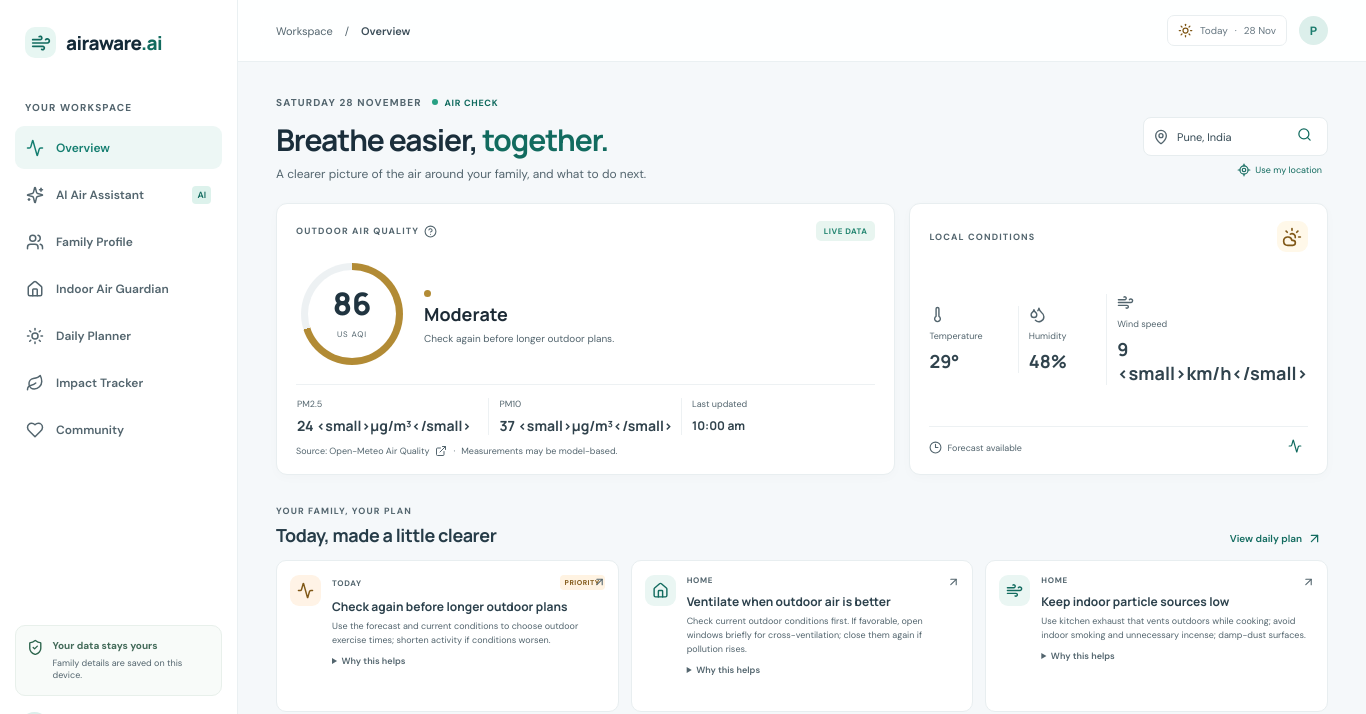
AirAware application › submits an assistant question and displays the structured response
The image size is (1366, 714).
Click the button "AI Air Assistant AI" at (118, 194), box [15, 173, 222, 216]
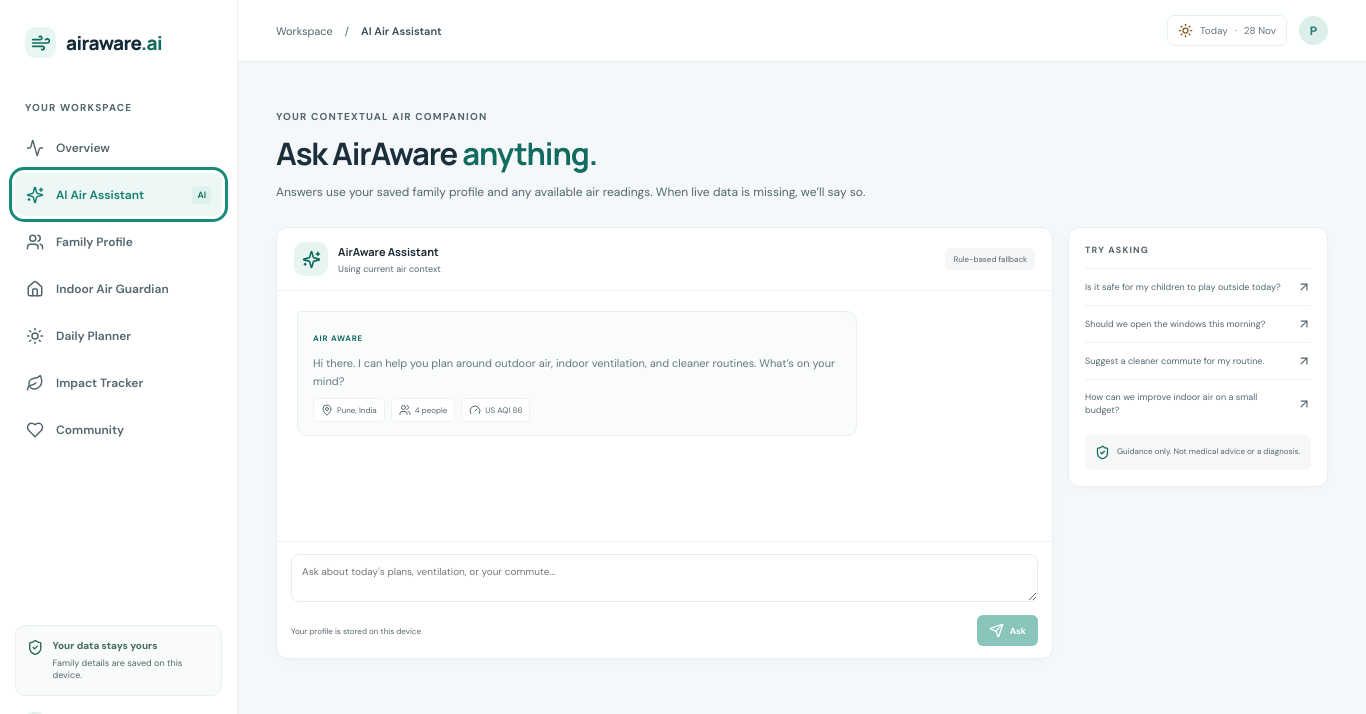
Type "Should my child play outside?" into the text box named "Ask AirAware" at (664, 578), box [291, 554, 1038, 602]
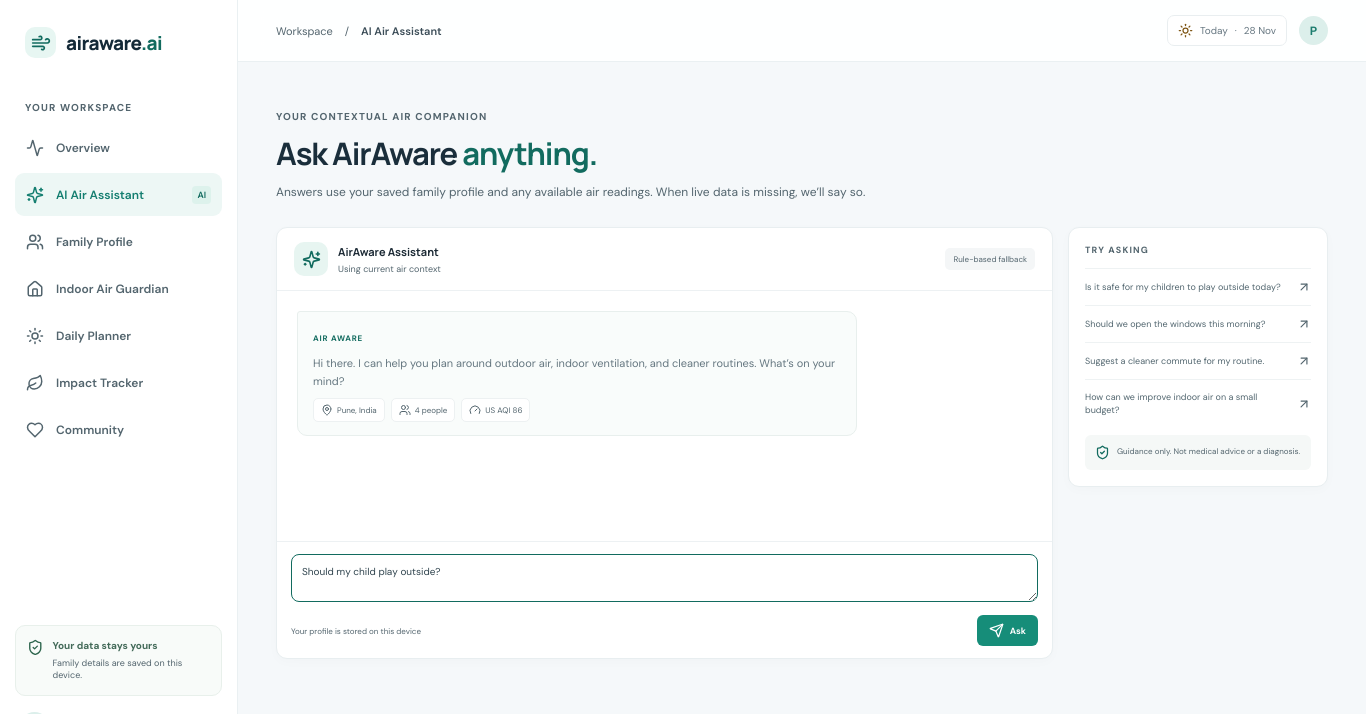
Click the button "Ask" at (1007, 631), box [977, 615, 1038, 646]
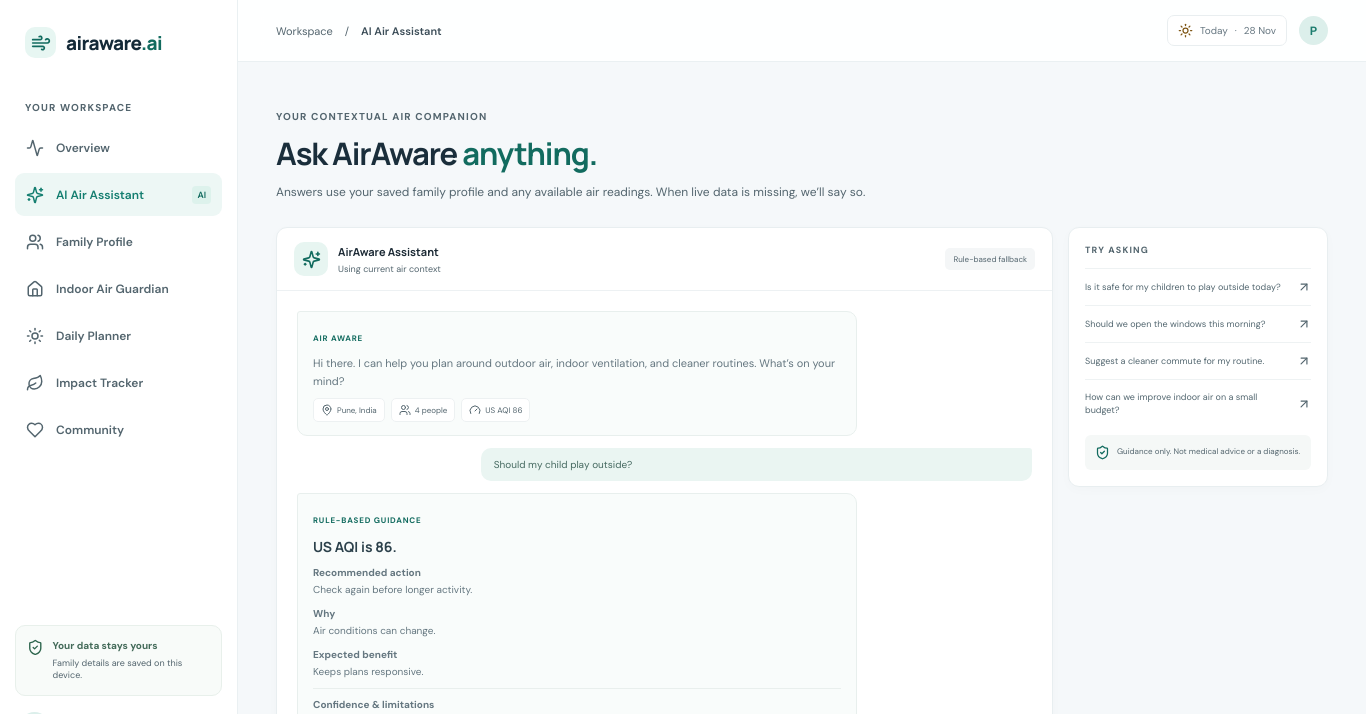
Now the heading "US AQI is 86." is shown, box [313, 538, 397, 556]
Now the text "RULE-BASED GUIDANCE" is shown, box [313, 516, 422, 526]
